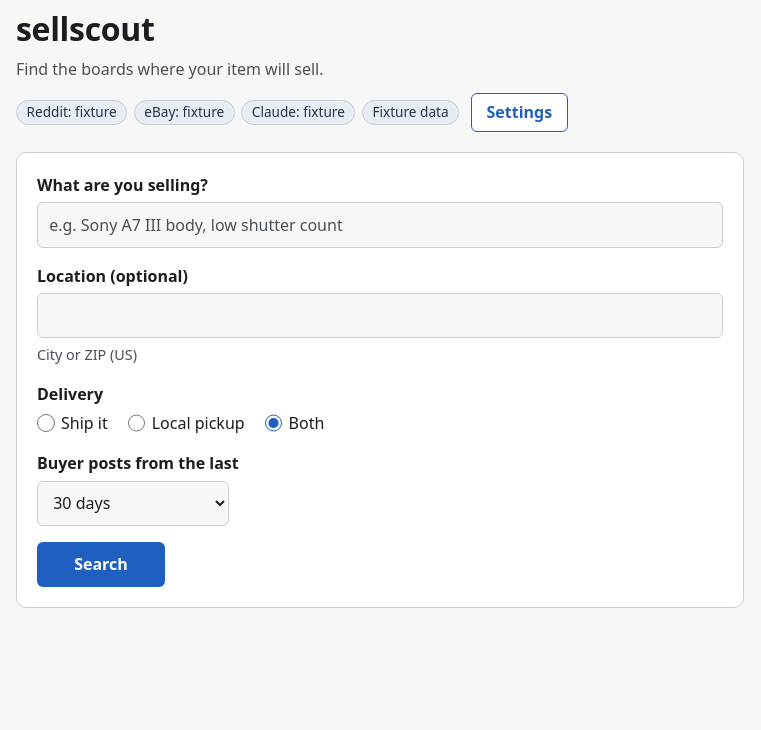
Scenario: venue row: AI suggested badge › shows the Claude notice in the notices region
Type "mechanical keyboard" into the field labelled "What are you selling?" at (380, 225), box [37,202,723,248]
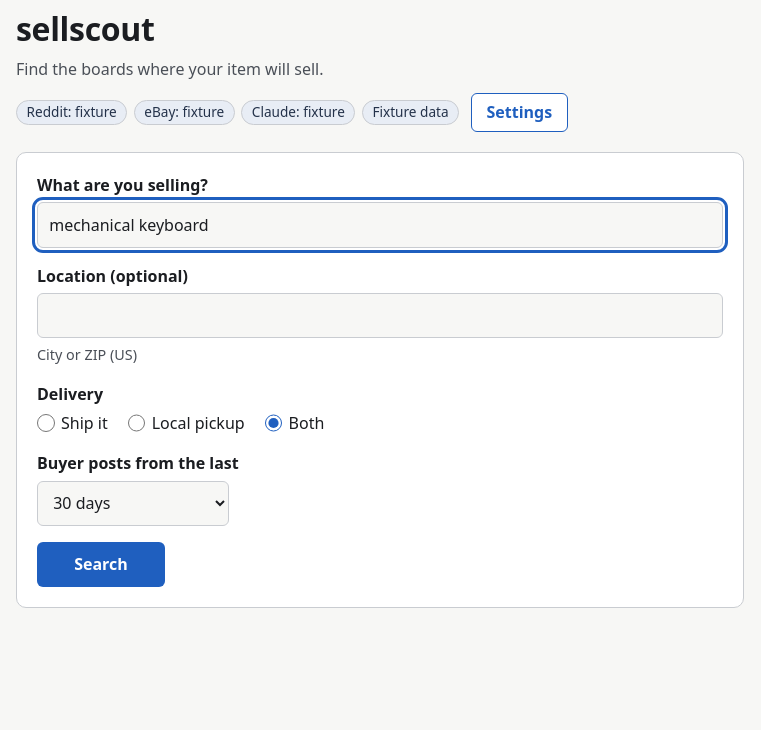
Click the button "Search" at (101, 564), box [37,542,165,587]
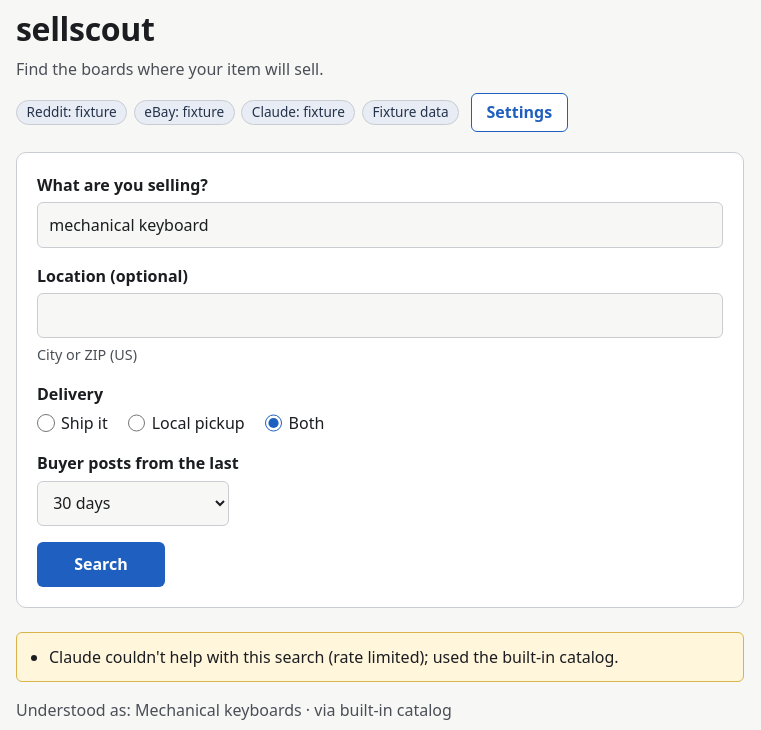
Expected: the text "Understood as: Mechanical keyboards · via built-in catalog" is shown, [16,699,452,721]
Expected: the list item "Claude couldn't help with this search (rate limited); used the built-in catalog." is shown, [49,646,619,668]
